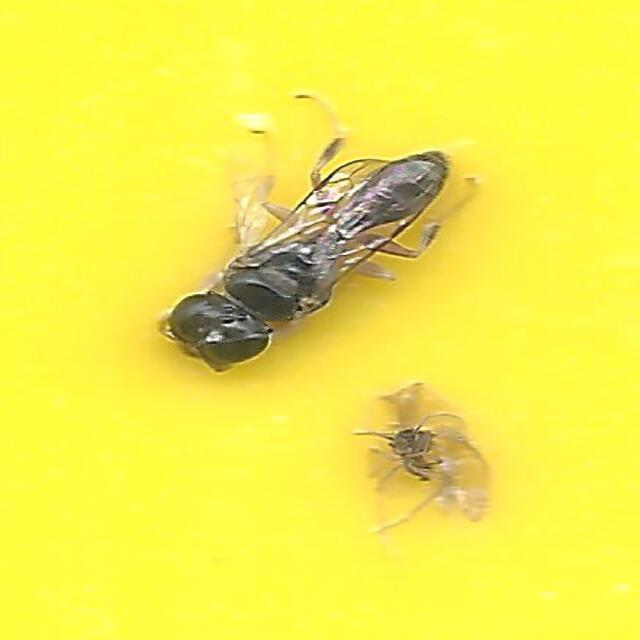Hymenoptera: (145, 105, 461, 373)
Nematocera: (357, 381, 495, 535)
